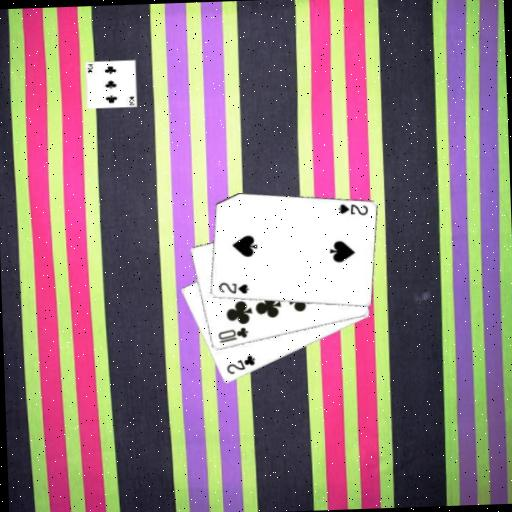10C: (214, 324, 249, 344)
2C: (222, 351, 256, 376)
2S: (334, 199, 370, 217), (215, 278, 250, 296)
